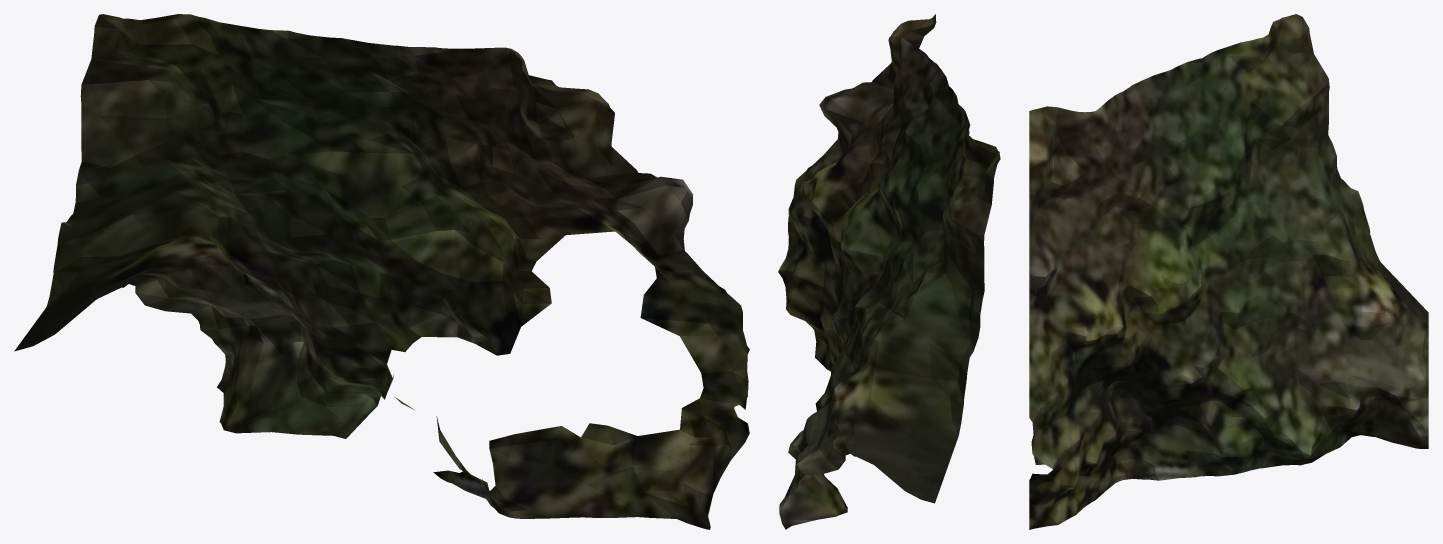
The picture shows the model from 3 angles, left to right: view 1: azimuth 30°, elevation 25°; view 2: azimuth 150°, elevation 25°; view 3: azimuth 270°, elevation 25°; orthographic projection. The views are drawn at different scales.
Bounding box in the file's own units: 0.8374 × 0.8373 × 0.8374.
Materials: 3 (3 with a texture image).
